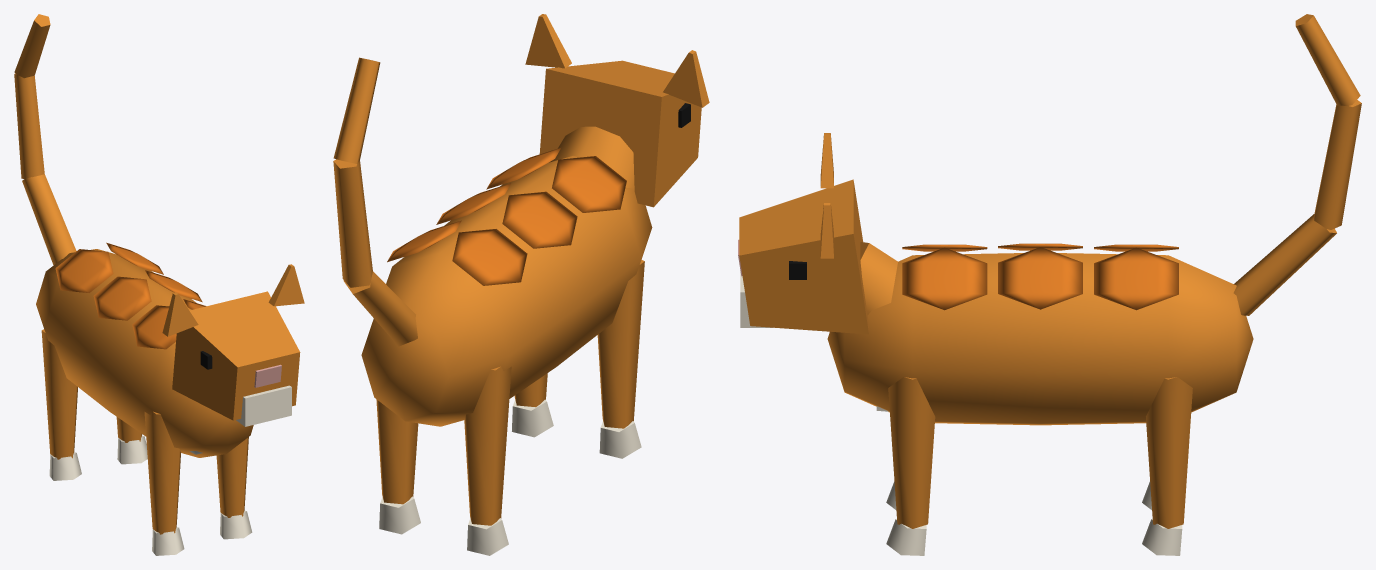
The model's file is kucing.glb.
3 renders of one model, left to right at view 1: azimuth 30°, elevation 25°; view 2: azimuth 150°, elevation 25°; view 3: azimuth 270°, elevation 25°, orthographic. The views are drawn at different scales.
Visible parts, largest first — view 1: body, head, tail, leg_fr, leg_rr, leg_fl, leg_rl; view 2: body, head, tail, leg_rr, leg_fr, leg_rl, leg_fl; view 3: body, head, tail, leg_fl, leg_rl.
Part boxes in pixels (x1,y1,x2,y2): body: (36, 242, 253, 457); head: (162, 264, 304, 426); tail: (14, 14, 76, 265); leg_fr: (144, 411, 184, 555); leg_rr: (41, 329, 81, 480); leg_fl: (216, 437, 252, 539); leg_rl: (116, 417, 147, 464); body: (361, 126, 652, 426); head: (525, 14, 709, 207); tail: (333, 57, 417, 346); leg_rr: (464, 366, 511, 555); leg_fr: (597, 260, 644, 458); leg_rl: (376, 399, 420, 534); leg_fl: (512, 373, 553, 437); body: (827, 242, 1253, 425); head: (738, 133, 868, 334); tail: (1233, 14, 1361, 315); leg_fl: (886, 377, 935, 555); leg_rl: (1142, 377, 1192, 555).
Bounding box in the file's own units: 0.1759 × 0.5064 × 0.5564.
1 material, 1 textured.
